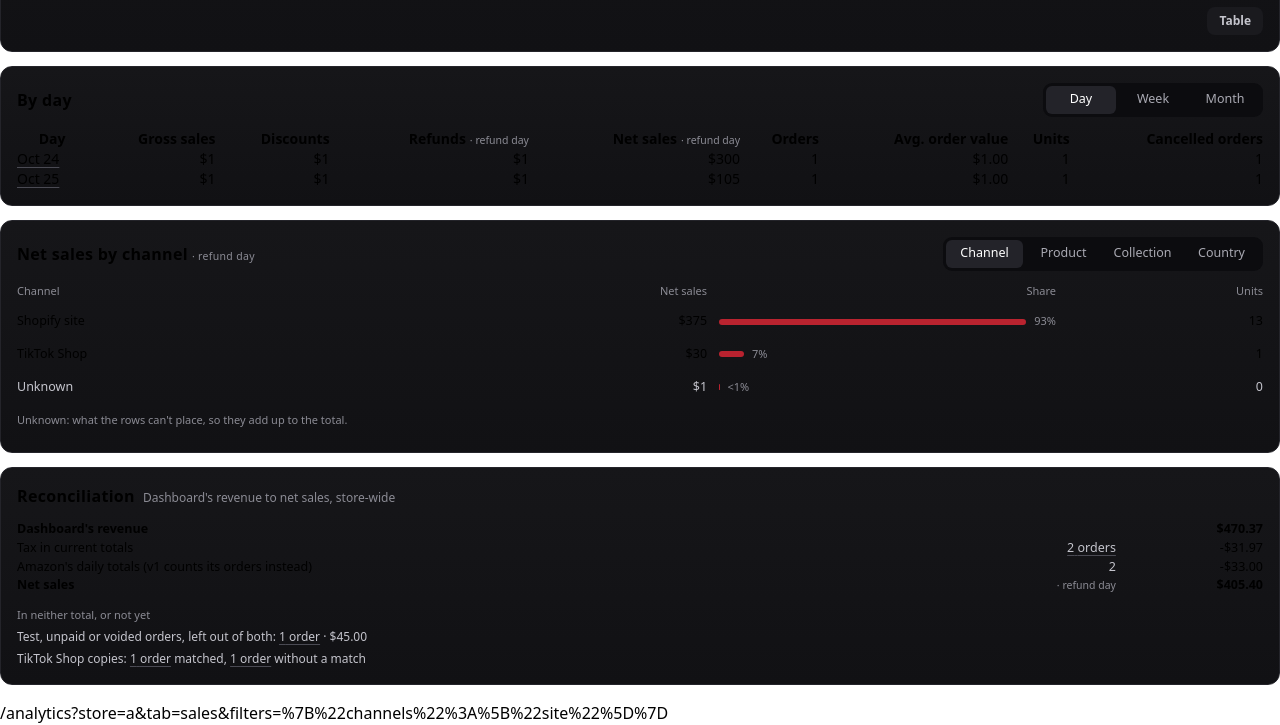
Sales tab (SA-98) › the reconciliation: Dashboard's revenue to net sales line by line, each line's and dedupe's orders a click away, store-wide
(page scrolled)
Click the button "2 orders" at (1092, 548), box [1067,539,1116,558]
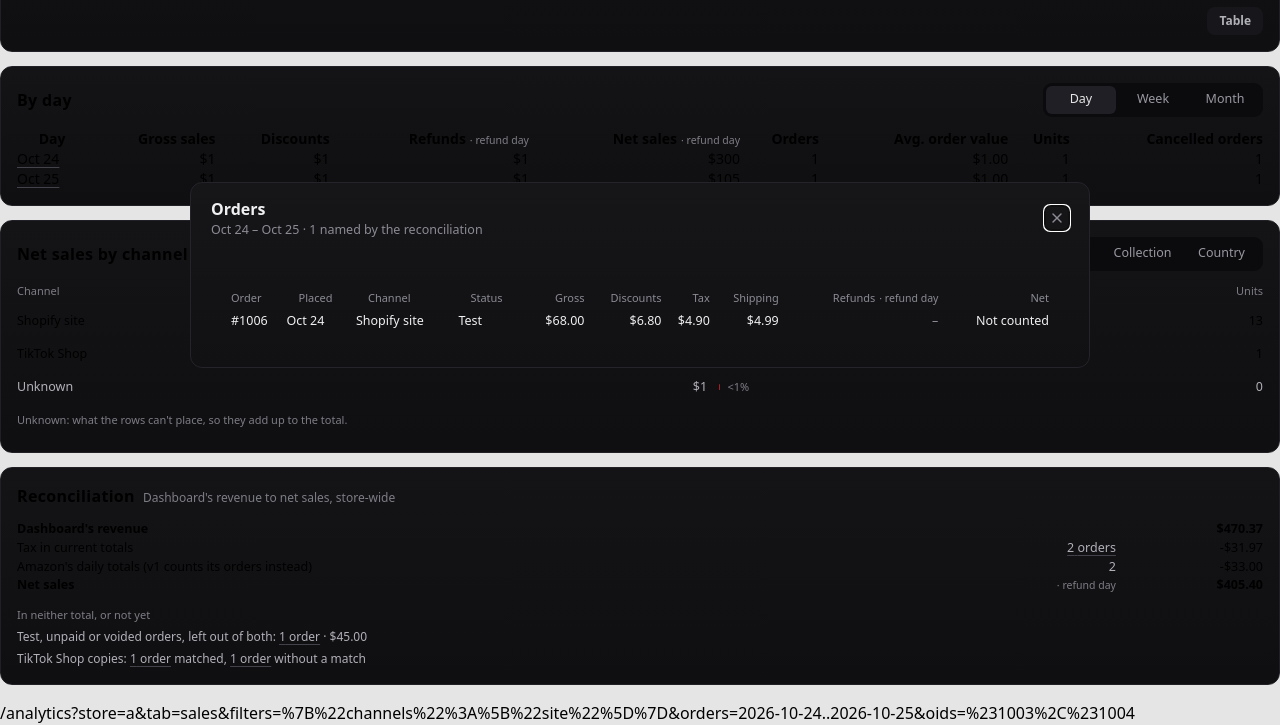
Now the text "Oct 24 – Oct 25 · 1 named by the reconciliation" is shown, box [211,221,483,240]
Now the row that starts with "Oct 24" reads "#1006 Oct 24 Shopify site test $68.00 $6.80 $4.90 $4.99 – Not counted", box [231,312,1049,331]
Click the button named "close" at (1057, 218), box [1045,206,1069,230]
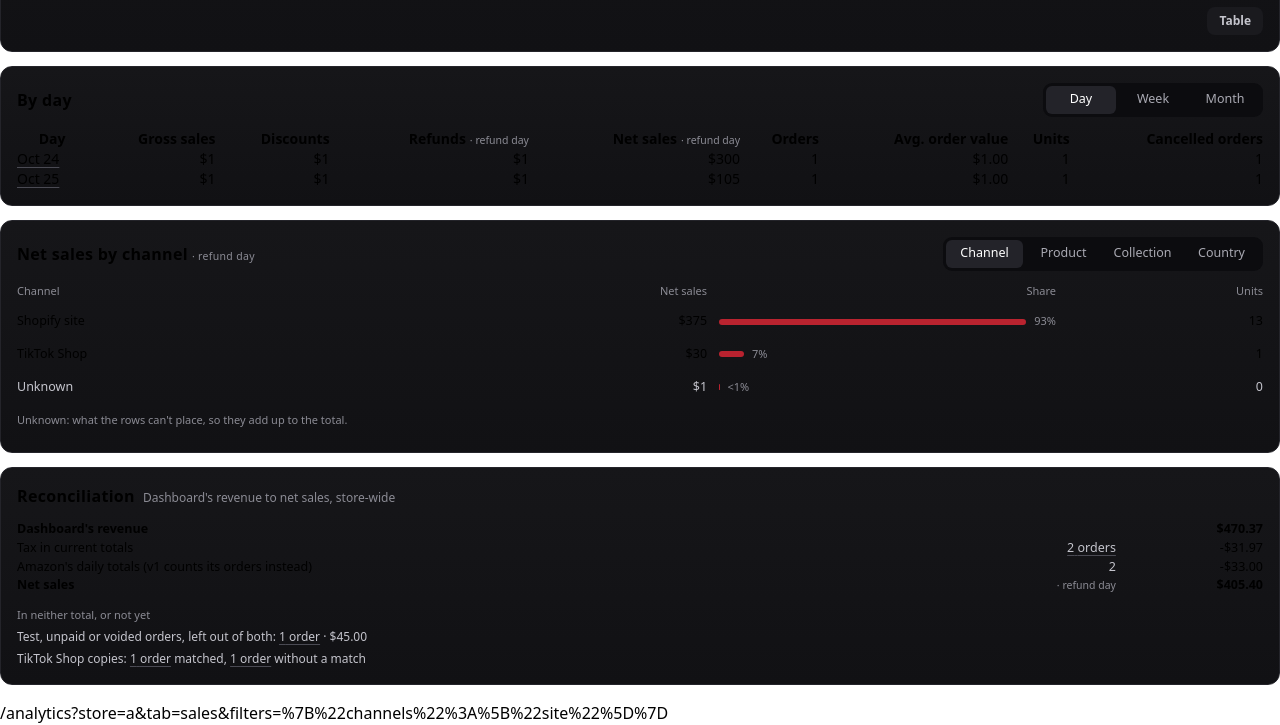
Expected: the list item "TikTok Shop copies: 1 order matched, 1 order without a match" is shown, [17,650,366,668]
Click the 3rd button "1 order" at (251, 658), box [230,650,271,668]
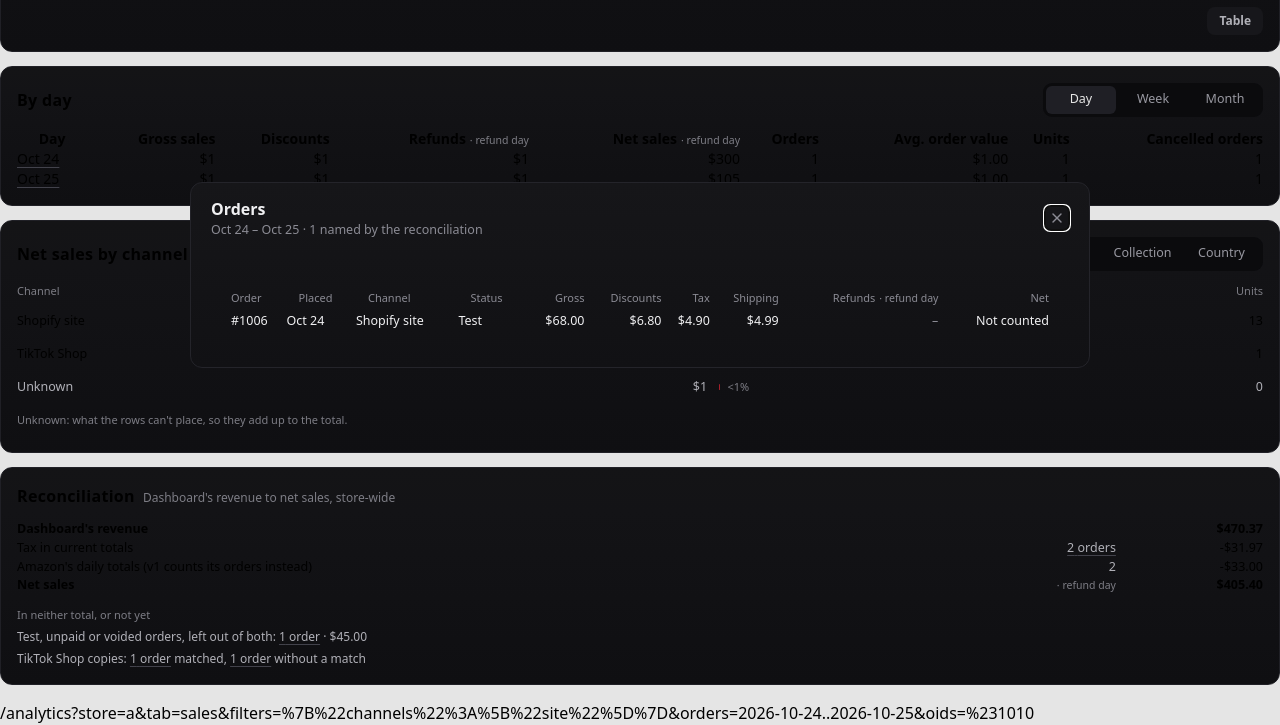
Expected: the list item "Test, unpaid or voided orders" reads "Test, unpaid or voided orders, left out of both: 1 order · $45.00", [17,628,367,646]
Now the dialog "Orders" is shown, box [190,182,1090,368]
